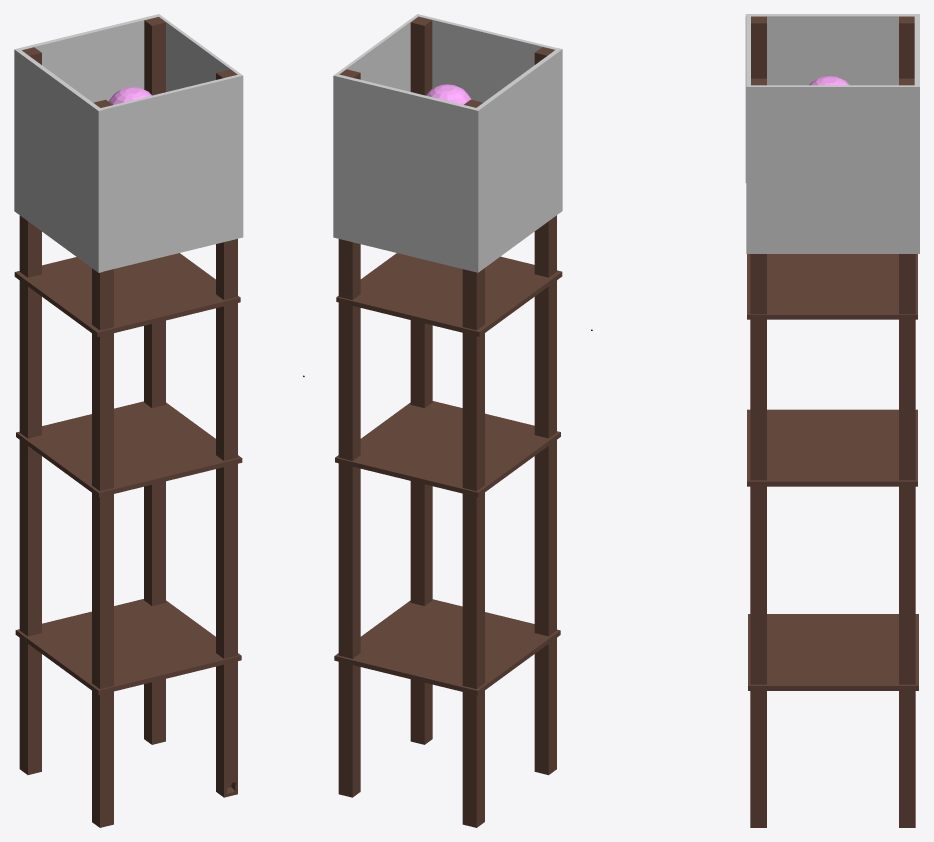
3 views of the same model, side by side, from view 1: azimuth 30°, elevation 25°; view 2: azimuth 150°, elevation 25°; view 3: azimuth 270°, elevation 25° (orthographic). The views are drawn at different scales.
Parts seen in each view (by area): view 1: node_MeshObject-417075136-PolyPaper22, node_MeshObject-2002106560-PolyPaper22; view 2: node_MeshObject-417075136-PolyPaper22, node_MeshObject-2002106560-PolyPaper22, node_MeshObject1493485312-PolyGem25; view 3: node_MeshObject-417075136-PolyPaper22, node_MeshObject-2002106560-PolyPaper22.
Part boxes in pixels (box(x1,y1,x2,y2)): node_MeshObject-417075136-PolyPaper22: box(14, 14, 304, 827); node_MeshObject-2002106560-PolyPaper22: box(15, 47, 241, 797); node_MeshObject-417075136-PolyPaper22: box(333, 14, 562, 797); node_MeshObject-2002106560-PolyPaper22: box(334, 17, 560, 827); node_MeshObject1493485312-PolyGem25: box(426, 84, 471, 104); node_MeshObject-417075136-PolyPaper22: box(591, 14, 919, 827); node_MeshObject-2002106560-PolyPaper22: box(748, 16, 918, 827).
Bounding box in the file's own units: 0.9839 × 4.65 × 1.87.
